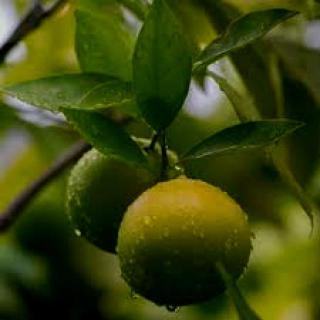orange: (104, 162, 270, 300)
